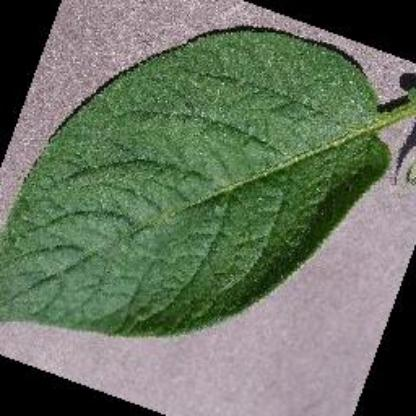Healthy-plant: (0, 26, 406, 351)
